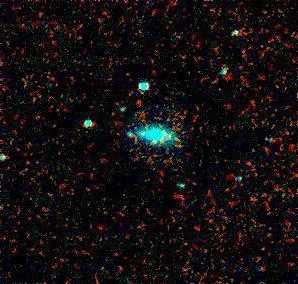star: (138, 129, 168, 159)
